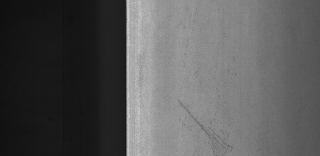water spot: (176, 95, 242, 155)
